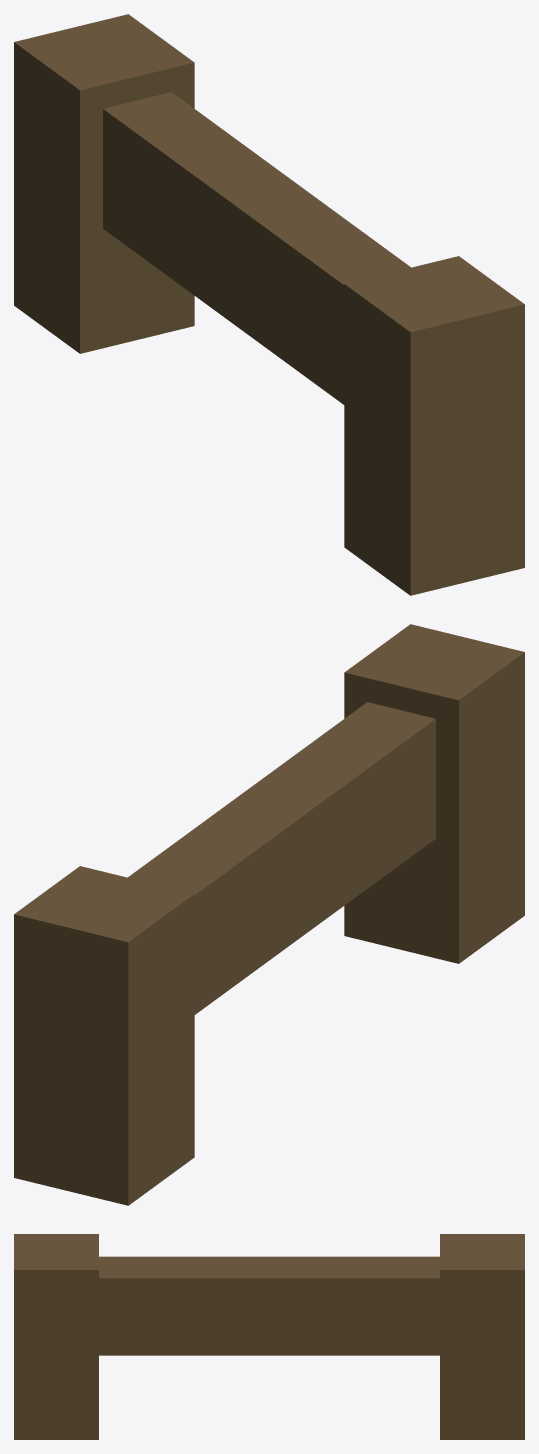
The model's file is Wood_Fence_01.obj.
3 renders of one model, top to bottom at view 1: azimuth 30°, elevation 25°; view 2: azimuth 150°, elevation 25°; view 3: azimuth 270°, elevation 25°, orthographic. The views are drawn at different scales.
Parts seen in each view (by area): view 1: Mesh1_Wood_Fence_Model; view 2: Mesh1_Wood_Fence_Model; view 3: Mesh1_Wood_Fence_Model.
Part boxes in pixels (x1,y1,x2,y2): Mesh1_Wood_Fence_Model: [14, 14, 524, 595]; Mesh1_Wood_Fence_Model: [14, 624, 524, 1205]; Mesh1_Wood_Fence_Model: [14, 1234, 524, 1439].
Size of the model in its own units: 0.5 by 1.1 by 3.
